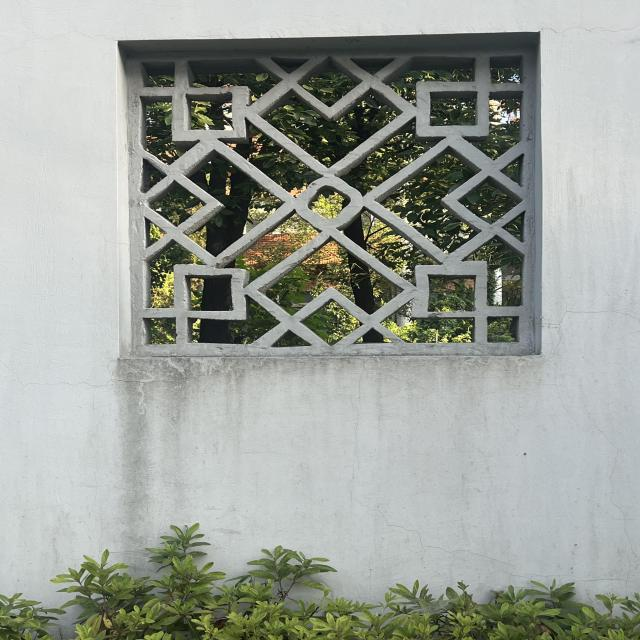crack: (338, 360, 639, 591), (11, 373, 189, 398)
